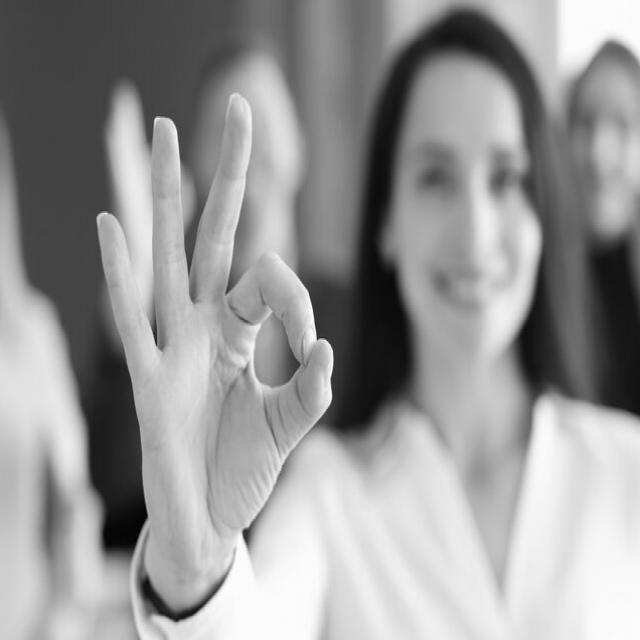perfect: (91, 88, 338, 580)
